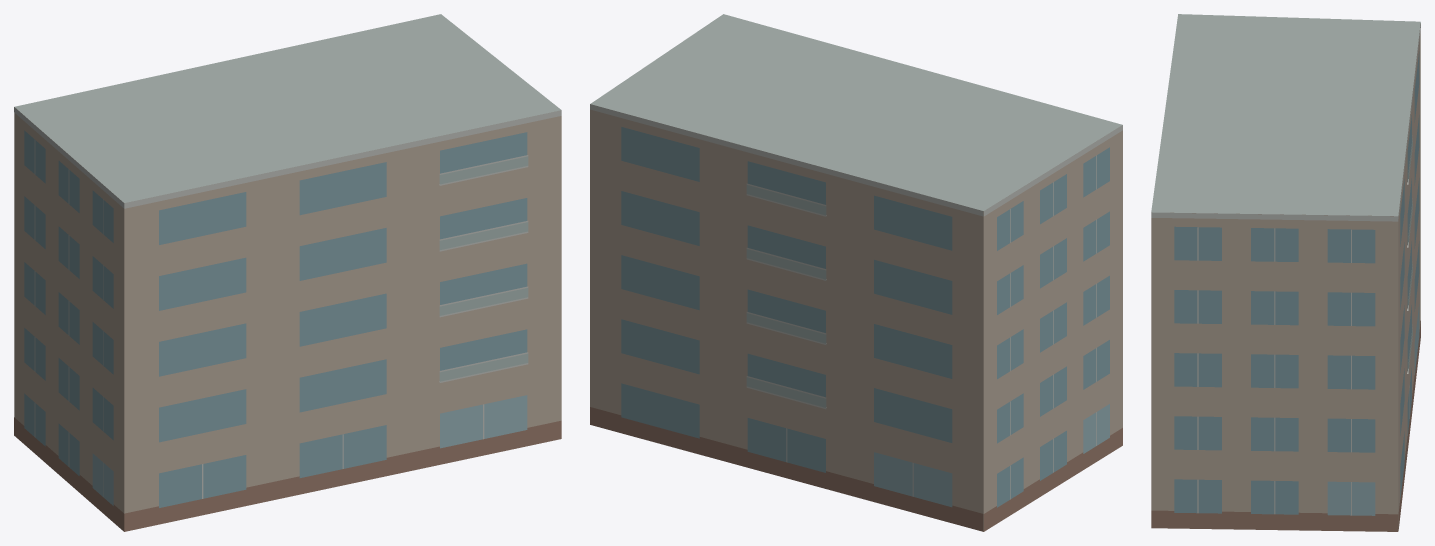
File: survey-upis-33023822.glb
3 views of the same model, side by side, from view 1: azimuth 30°, elevation 25°; view 2: azimuth 150°, elevation 25°; view 3: azimuth 270°, elevation 25° (orthographic). The views are drawn at different scales.
Visible parts, largest first — view 1: survey-upis-33023822.tmp; view 2: survey-upis-33023822.tmp; view 3: survey-upis-33023822.tmp.
Part boxes in pixels (x1=…): survey-upis-33023822.tmp: x1=14, y1=14, x2=561, y2=531; survey-upis-33023822.tmp: x1=590, y1=14, x2=1122, y2=531; survey-upis-33023822.tmp: x1=1151, y1=14, x2=1420, y2=531.
Bounding box in the file's own units: 19.65 × 14.3 × 11.08.
